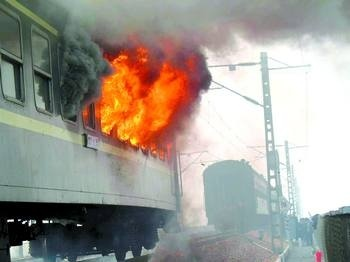fire: (92, 43, 196, 153)
